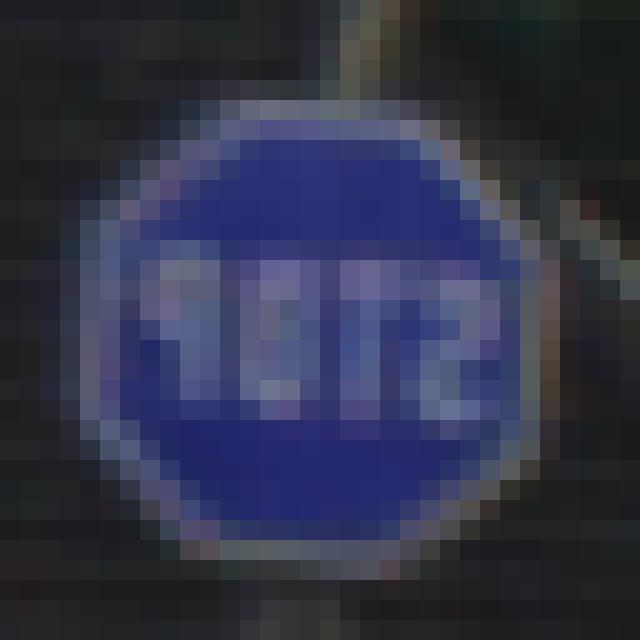STOP: (105, 124, 538, 550)
